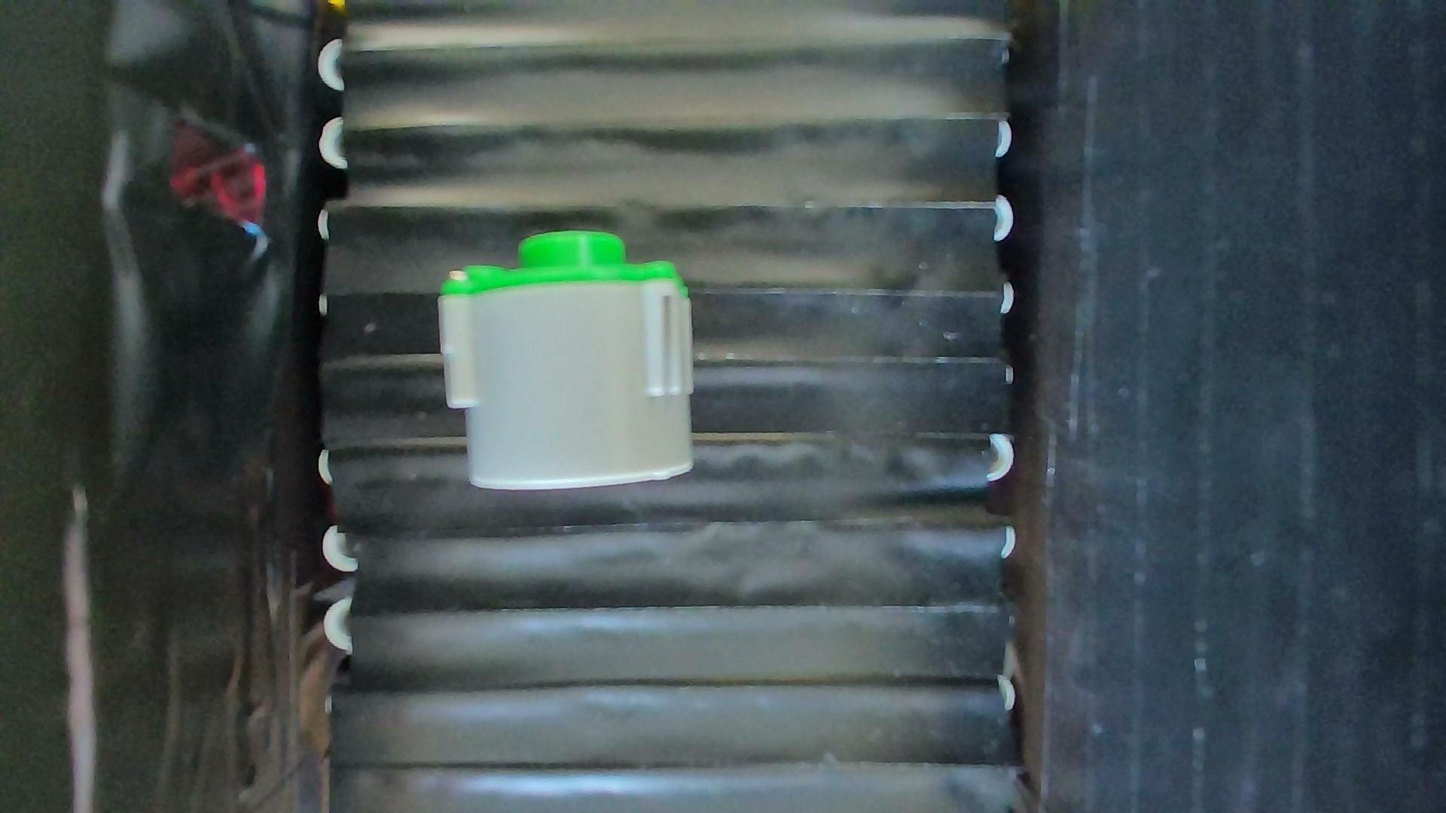cartridge: (437, 231, 695, 490)
